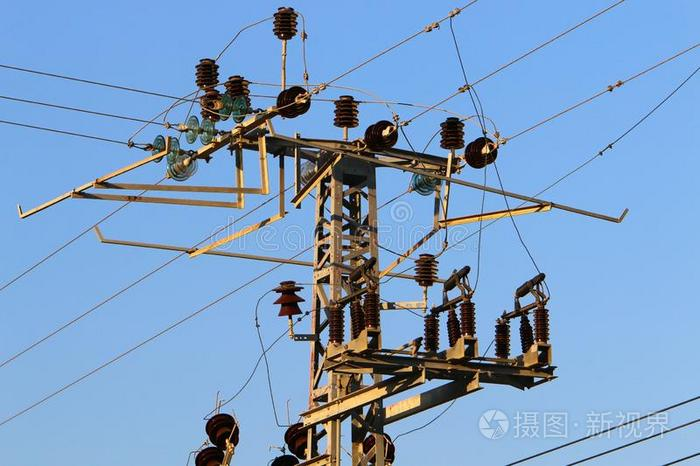insulator: (215, 92, 252, 125), (184, 116, 216, 146), (166, 155, 196, 183), (147, 135, 180, 158), (412, 172, 442, 197)
